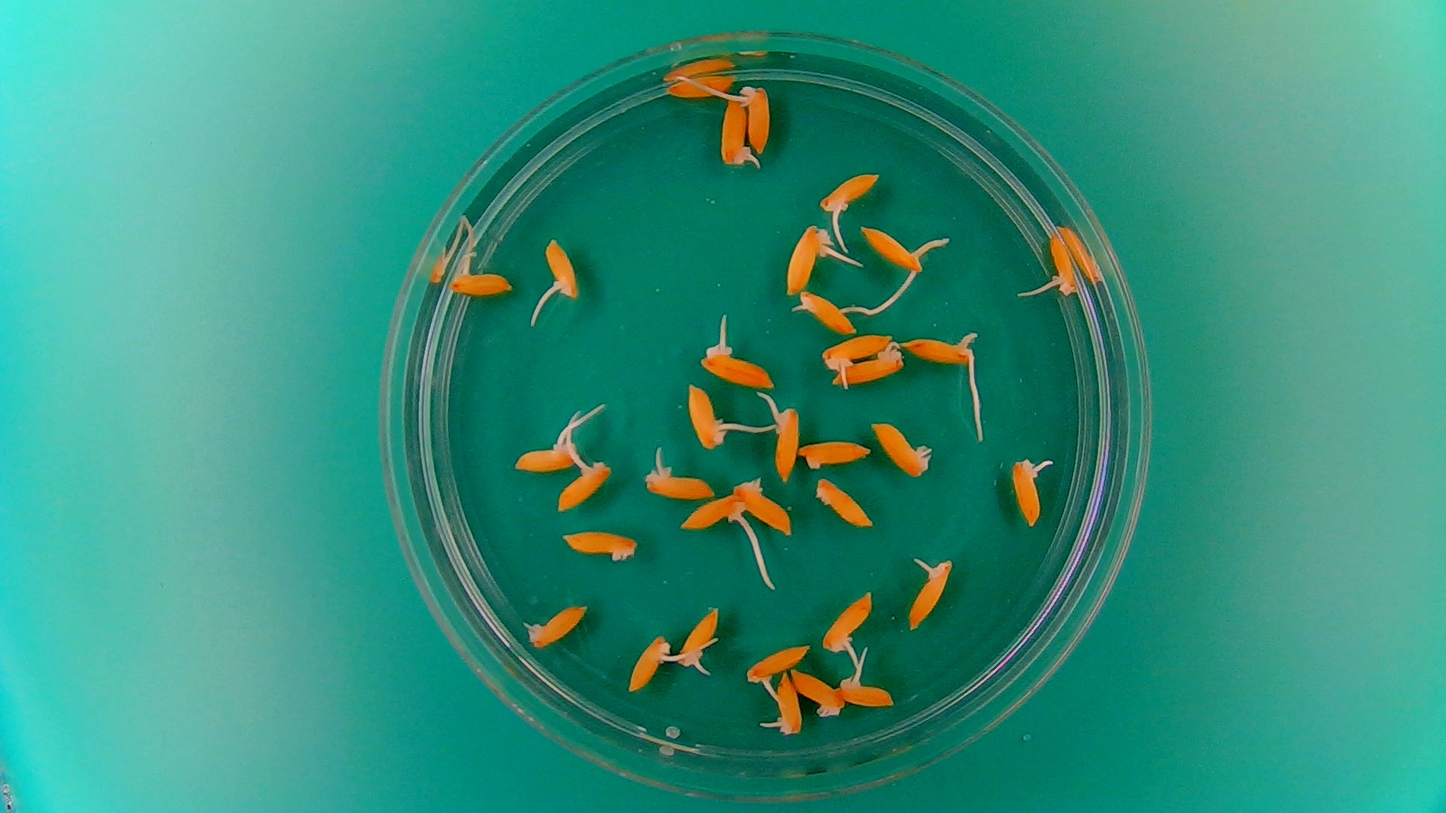no: (870, 416, 934, 480), (813, 474, 876, 531), (523, 599, 590, 650), (560, 525, 640, 565), (736, 483, 795, 535), (789, 668, 846, 717), (662, 67, 739, 103), (798, 435, 873, 470)
yes: (819, 588, 875, 655), (905, 556, 951, 632), (1010, 452, 1055, 529), (782, 224, 830, 295), (858, 223, 924, 274), (703, 346, 778, 390), (746, 641, 812, 690), (555, 461, 616, 514), (901, 330, 981, 370), (686, 386, 732, 455), (823, 334, 902, 373), (795, 288, 859, 335), (624, 633, 674, 693), (831, 346, 905, 386), (677, 603, 721, 670), (679, 492, 749, 534), (821, 168, 882, 215), (716, 93, 752, 168), (766, 667, 802, 738), (546, 236, 580, 305), (772, 405, 802, 483), (1047, 230, 1080, 297), (741, 83, 773, 151), (641, 470, 711, 501), (511, 442, 578, 473), (447, 271, 514, 298), (839, 676, 892, 707)
